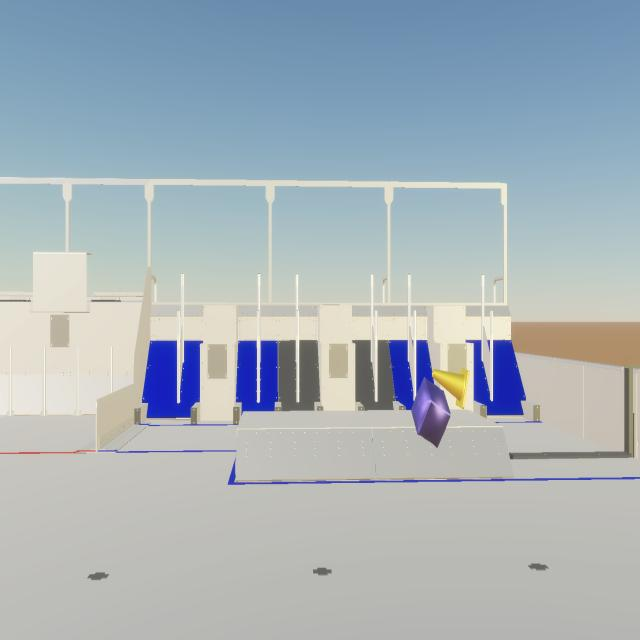frc_cone: (432, 368, 470, 409)
frc_cube: (411, 377, 451, 448)
